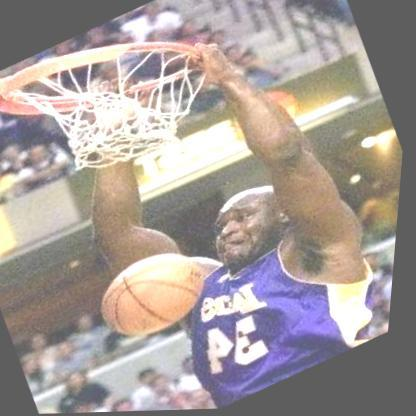basketball: (91, 237, 224, 352)
rim: (0, 0, 232, 207)
